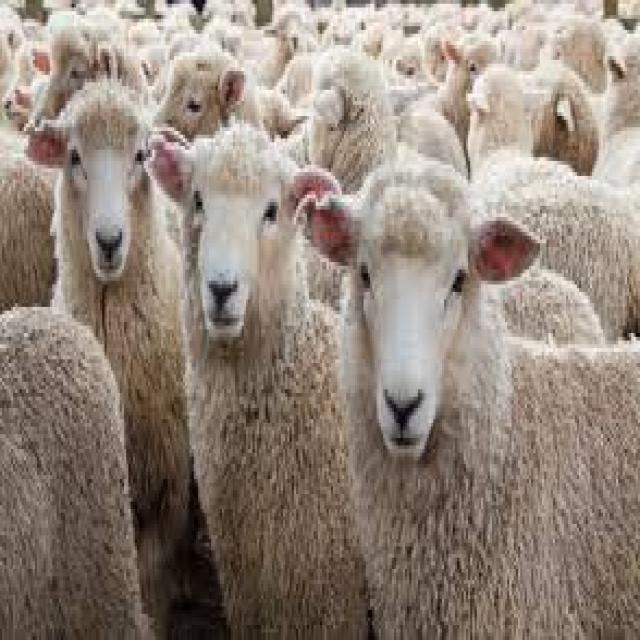Boar: (0, 0, 638, 636), (298, 146, 638, 636), (142, 120, 370, 636), (0, 303, 155, 636)
